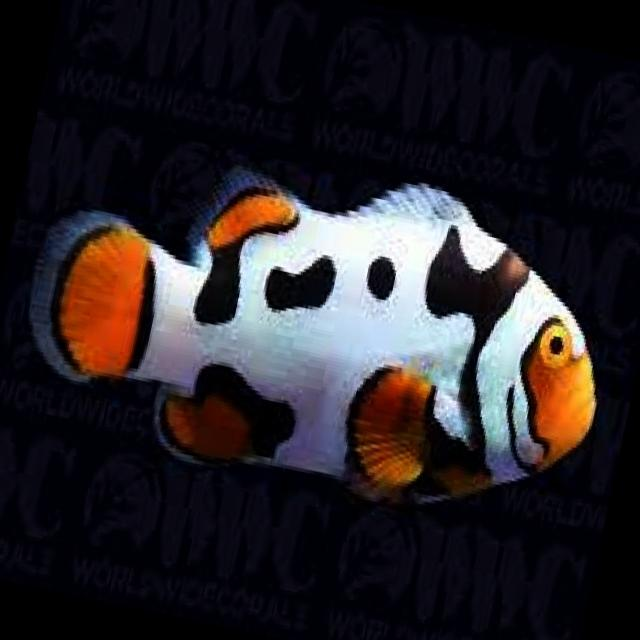ClownFish: (0, 104, 631, 543)
